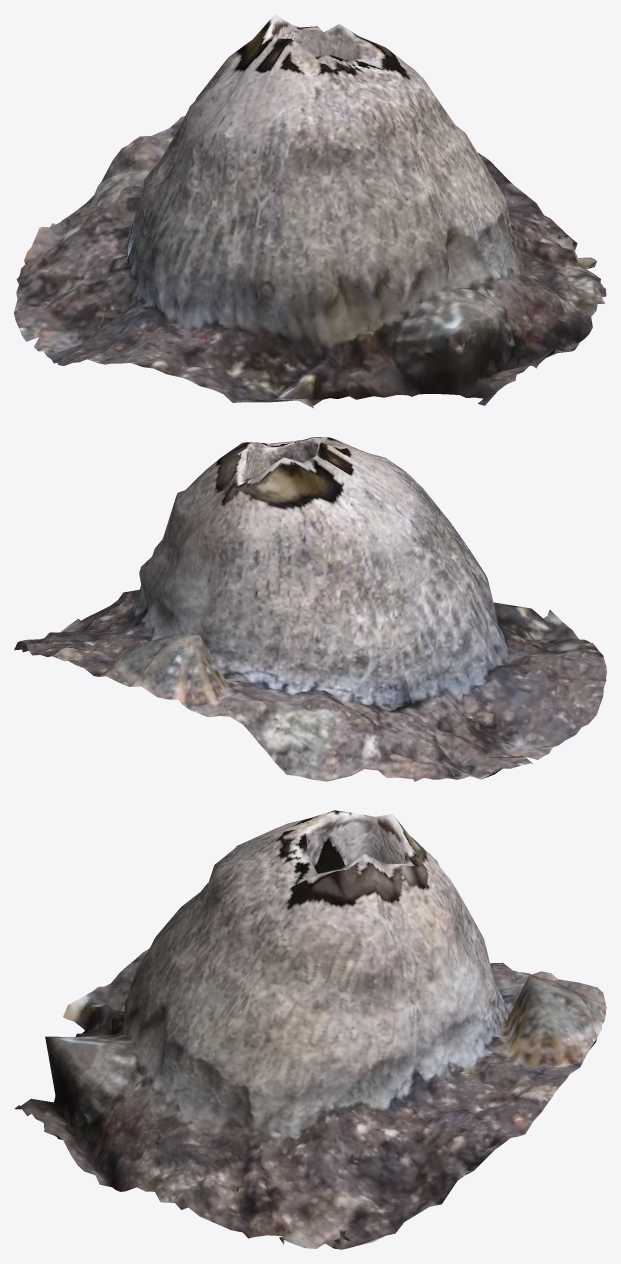
File: barnacle.glb
3 renders of one model, top to bottom at view 1: azimuth 30°, elevation 25°; view 2: azimuth 150°, elevation 25°; view 3: azimuth 270°, elevation 25°, orthographic. The views are drawn at different scales.
Parts seen in each view (by area): view 1: barnacle_near; view 2: barnacle_near; view 3: barnacle_near.
Part boxes in pixels (x1=…): barnacle_near: x1=14, y1=14, x2=606, y2=408; barnacle_near: x1=14, y1=437, x2=606, y2=781; barnacle_near: x1=14, y1=810, x2=606, y2=1249.
Size of the model in its own units: 0.0397 by 0.0197 by 0.0355.
1 material, 1 textured.
